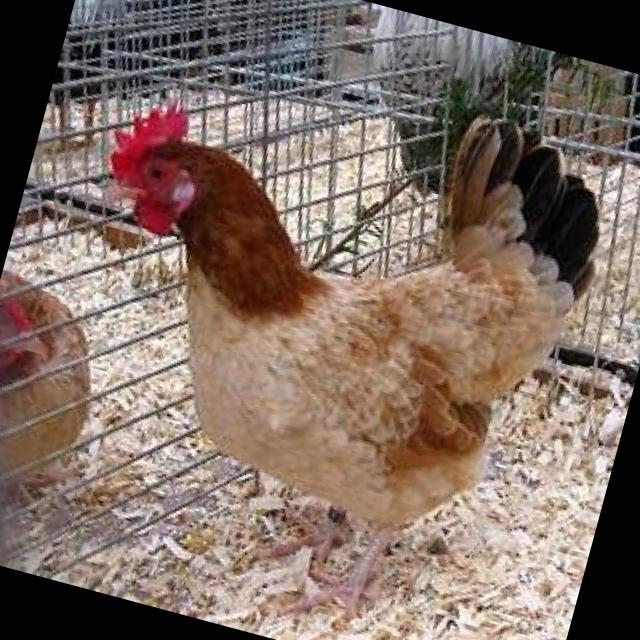chicken: (6, 18, 628, 640)
